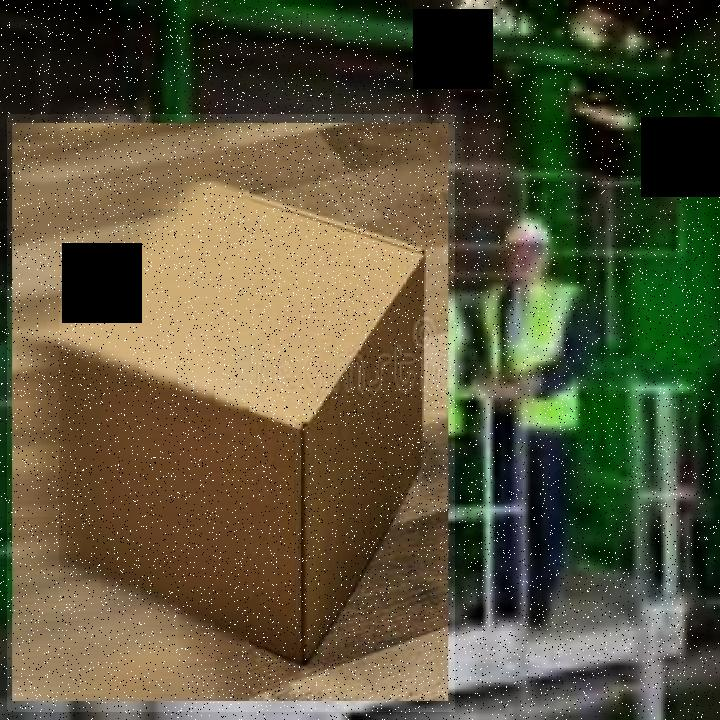box: (7, 114, 455, 712)
